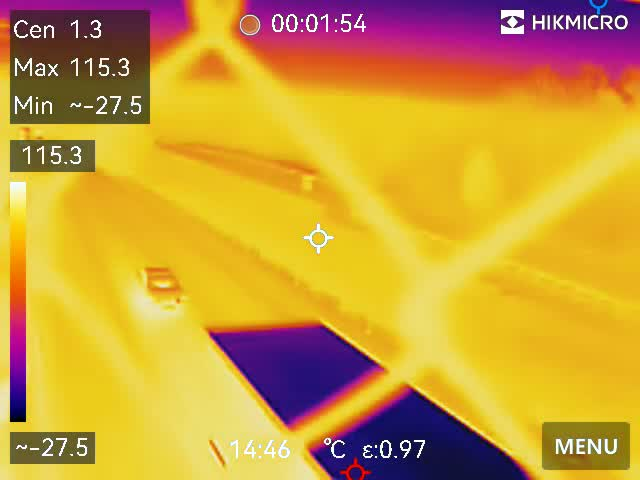heavyTruck: (199, 311, 539, 480)
vehicle: (135, 260, 187, 314)
